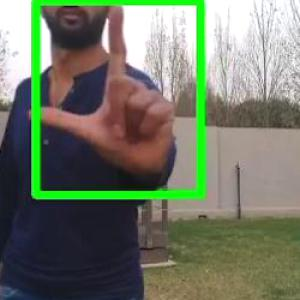land_hand: (23, 0, 179, 177)
